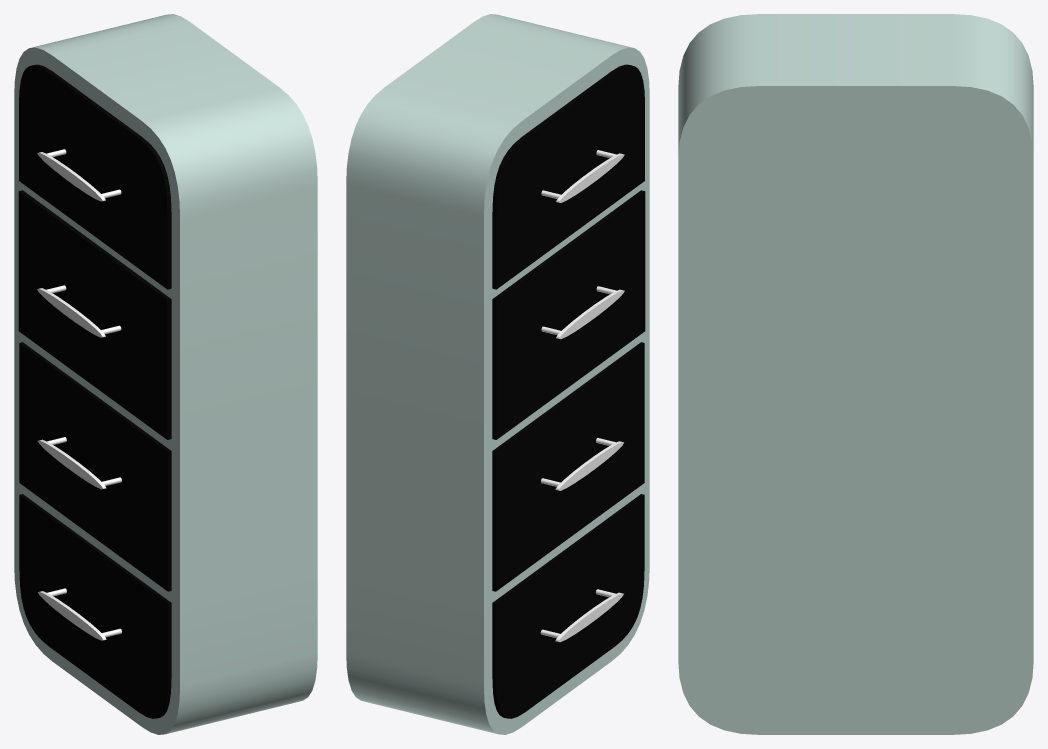
File: plusfiJoka1 (1).fbx
The picture shows the model from 3 angles, left to right: view 1: azimuth 30°, elevation 25°; view 2: azimuth 150°, elevation 25°; view 3: azimuth 270°, elevation 25°; orthographic projection. The views are drawn at different scales.
Parts seen in each view (by area): view 1: Frame, Drawer2.001, DrawerMiddle, DrawerTop, DrawerBottom; view 2: Frame, Drawer2.001, DrawerMiddle, DrawerTop, DrawerBottom; view 3: Frame.
Boxes of the visible parts, x1,y1,x2,y2 form: Frame: (14, 14, 317, 734); Drawer2.001: (18, 190, 171, 439); DrawerMiddle: (19, 342, 171, 591); DrawerTop: (19, 64, 171, 289); DrawerBottom: (19, 494, 171, 718); Frame: (346, 14, 649, 734); Drawer2.001: (492, 190, 645, 439); DrawerMiddle: (492, 342, 644, 591); DrawerTop: (492, 64, 644, 289); DrawerBottom: (492, 494, 644, 718); Frame: (678, 14, 1033, 734).
Bounding box in the file's own units: 114 × 404 × 200.
